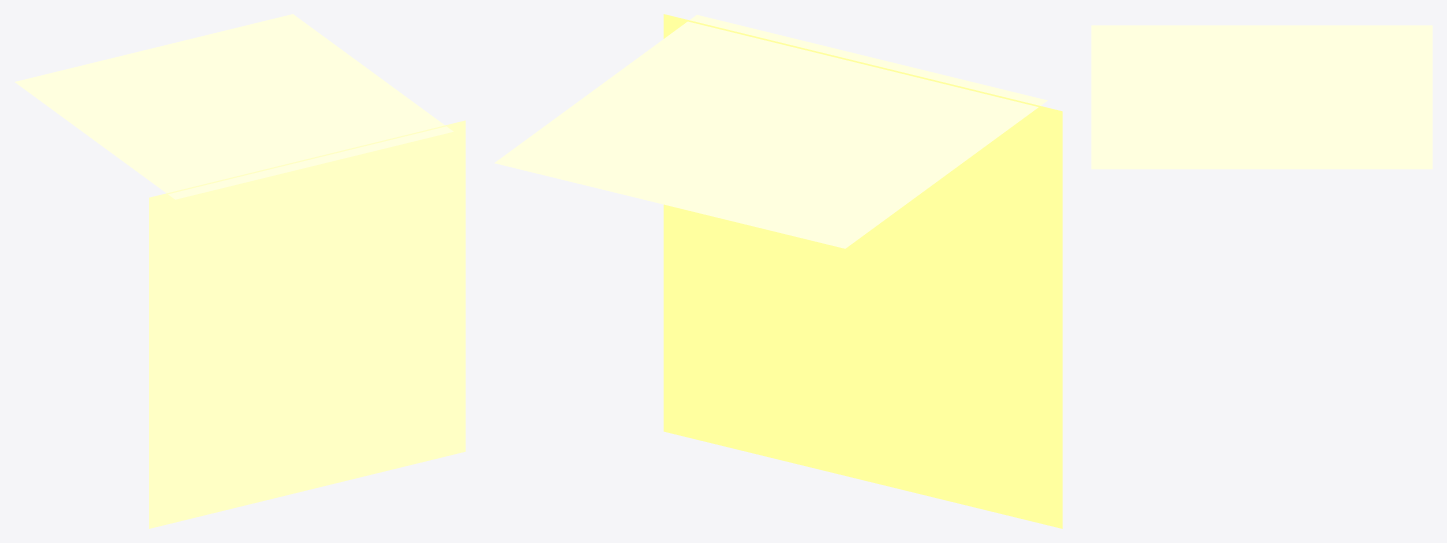
Rendered from SVPO_MASTER.glb.
3 renders of one model, left to right at view 1: azimuth 30°, elevation 25°; view 2: azimuth 150°, elevation 25°; view 3: azimuth 270°, elevation 25°, orthographic. The views are drawn at different scales.
Visible parts, largest first — view 1: SVPO_POST, SVPO_MAN, SVPO_RING; view 2: SVPO_POST, SVPO_MAN, SVPO_RING; view 3: SVPO_MAN, SVPO_RING.
Part boxes in pixels (x1,y1,x2,y2): SVPO_POST: (149, 120, 465, 528); SVPO_MAN: (54, 28, 413, 179); SVPO_RING: (15, 14, 453, 199); SVPO_POST: (663, 14, 1062, 528); SVPO_MAN: (545, 32, 997, 223); SVPO_RING: (494, 15, 1047, 248); SVPO_MAN: (1122, 35, 1401, 153); SVPO_RING: (1091, 25, 1432, 169).
Size of the model in its own units: 2.5 by 2.51 by 2.2.
3 materials, 3 textured.
